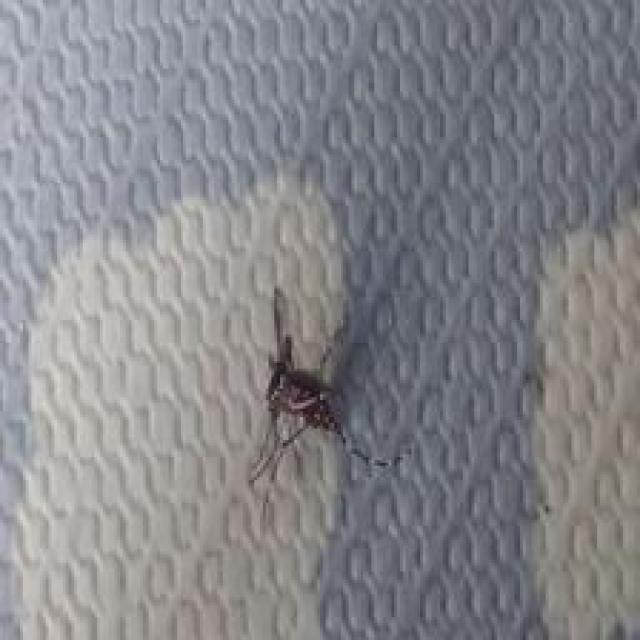Aedes albopictus: (246, 284, 408, 490)
